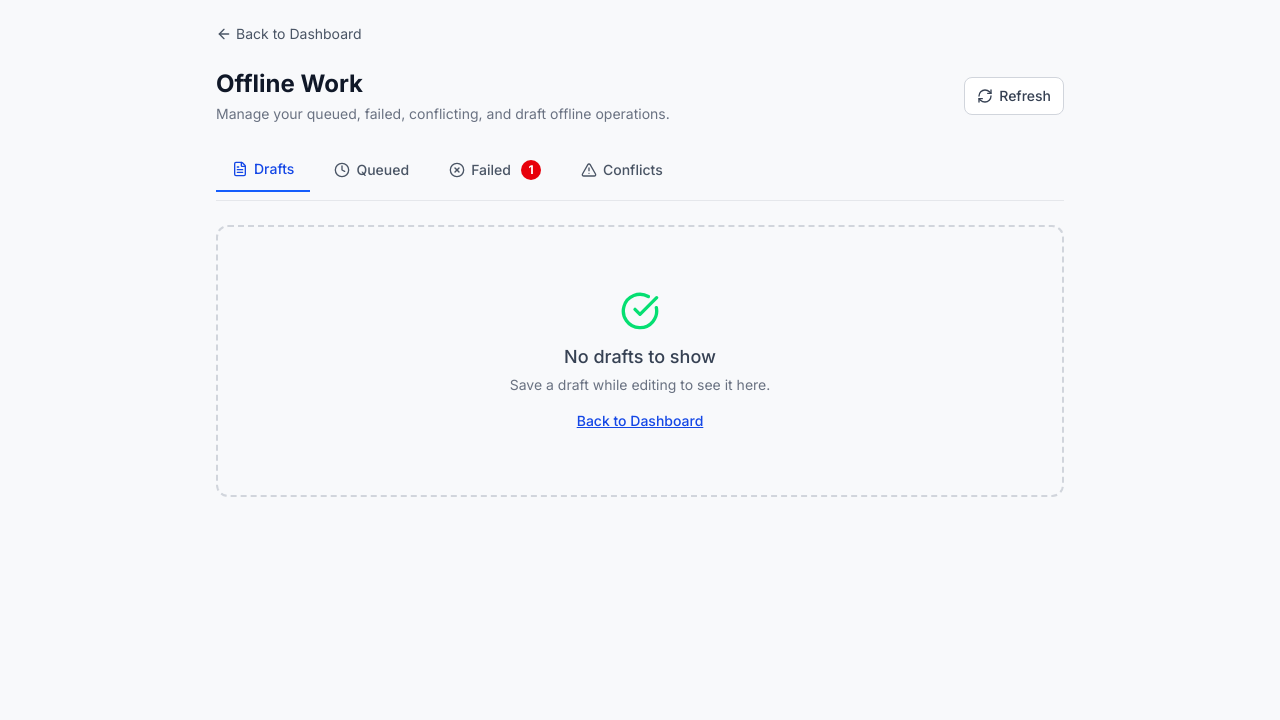
Test case: OfflineWorkPage › shows cancel button for failed ops
Click the tab "Failed 1" at (495, 170), box [433,148,557,192]
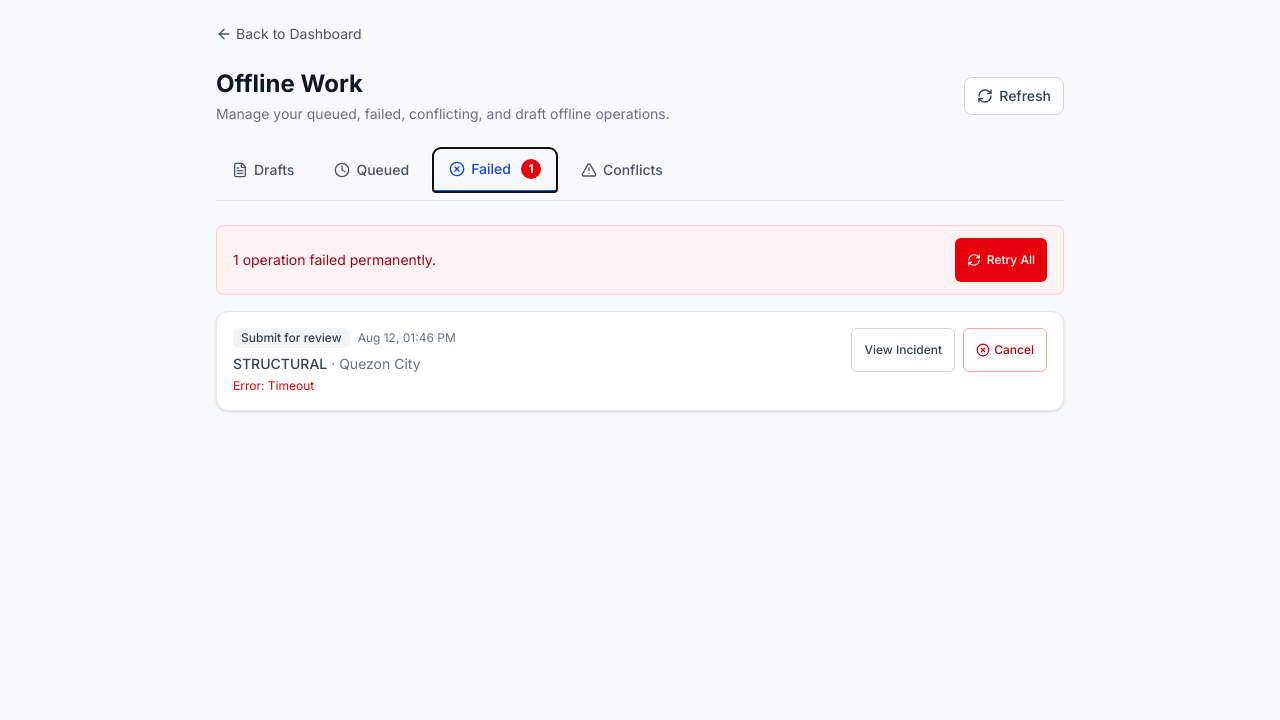
expect the button with aria-label "Cancel Submit for review" is shown: met
expect the button with aria-label "Cancel Submit for review" is enabled: met
# Click cancel to show confirmation
Click the button with aria-label "Cancel Submit for review" at (1005, 350), box [963,328,1047,372]
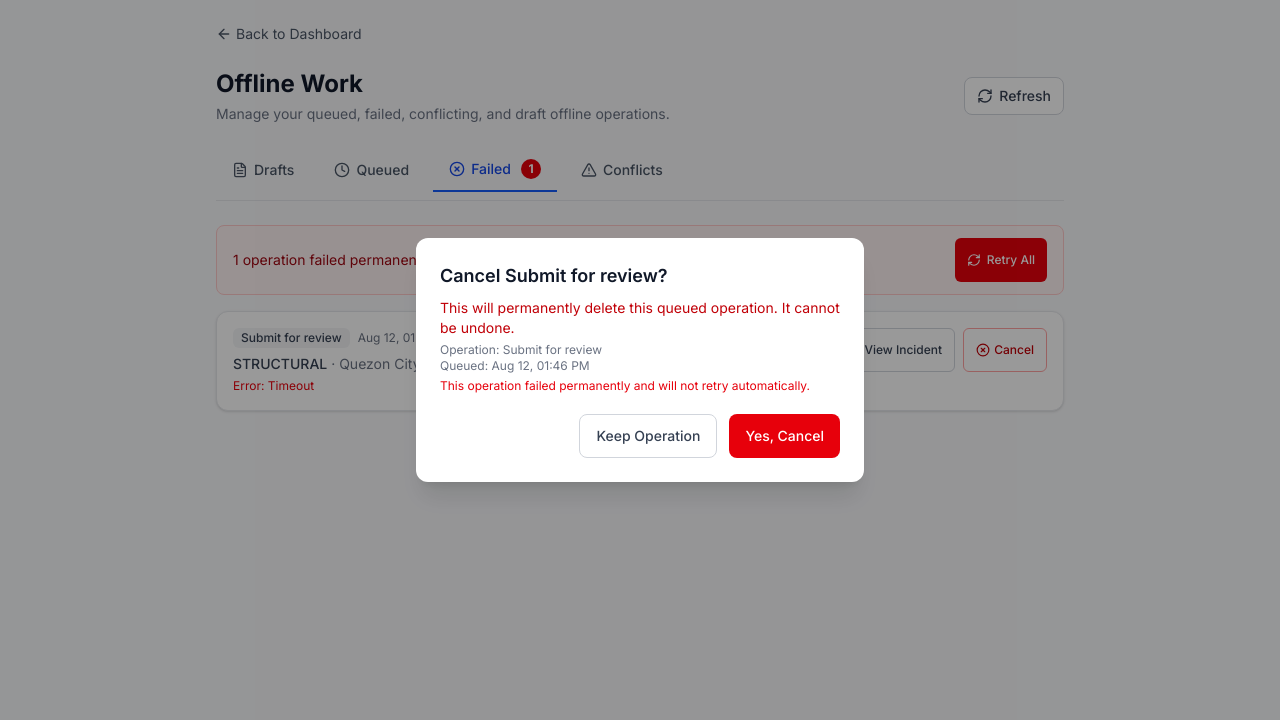
expect the dialog is shown: met
expect the heading "Cancel Submit for review?" is shown: met, box [440,265,668,286]
expect the text "will not retry automatically" is shown: met, box [440,378,810,393]
